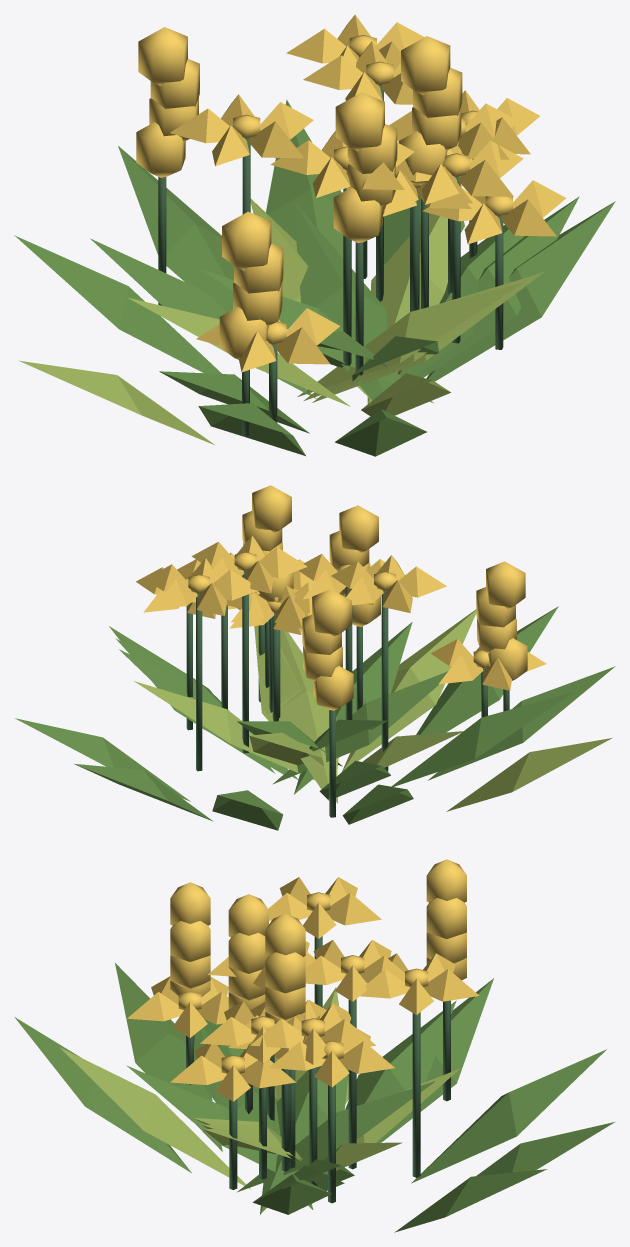
File: bush_flower_yellow.glb
The picture shows the model from 3 angles, top to bottom: view 1: azimuth 30°, elevation 25°; view 2: azimuth 150°, elevation 25°; view 3: azimuth 270°, elevation 25°; orthographic projection. The views are drawn at different scales.
Parts seen in each view (by area): view 1: bush_flower_yellow; view 2: bush_flower_yellow; view 3: bush_flower_yellow.
Boxes of the visible parts, x1,y1,x2,y2 form: bush_flower_yellow: [14, 14, 615, 456]; bush_flower_yellow: [15, 485, 615, 830]; bush_flower_yellow: [14, 859, 614, 1232].
Size of the model in its own units: 1.36 by 0.757 by 1.36.
